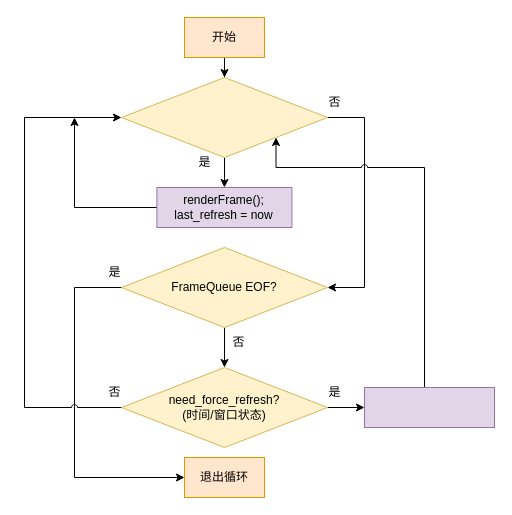
The diagram is 512 pixels wide and 515 high, and some of its shapes have lost their labels. The centre of each missing label's shape, as x and y in pixels:
"pop(100 ms) 是否成功?" belongs at (x=224, y=117).
"refresh(); last_refresh = now" belongs at (x=429, y=407).
